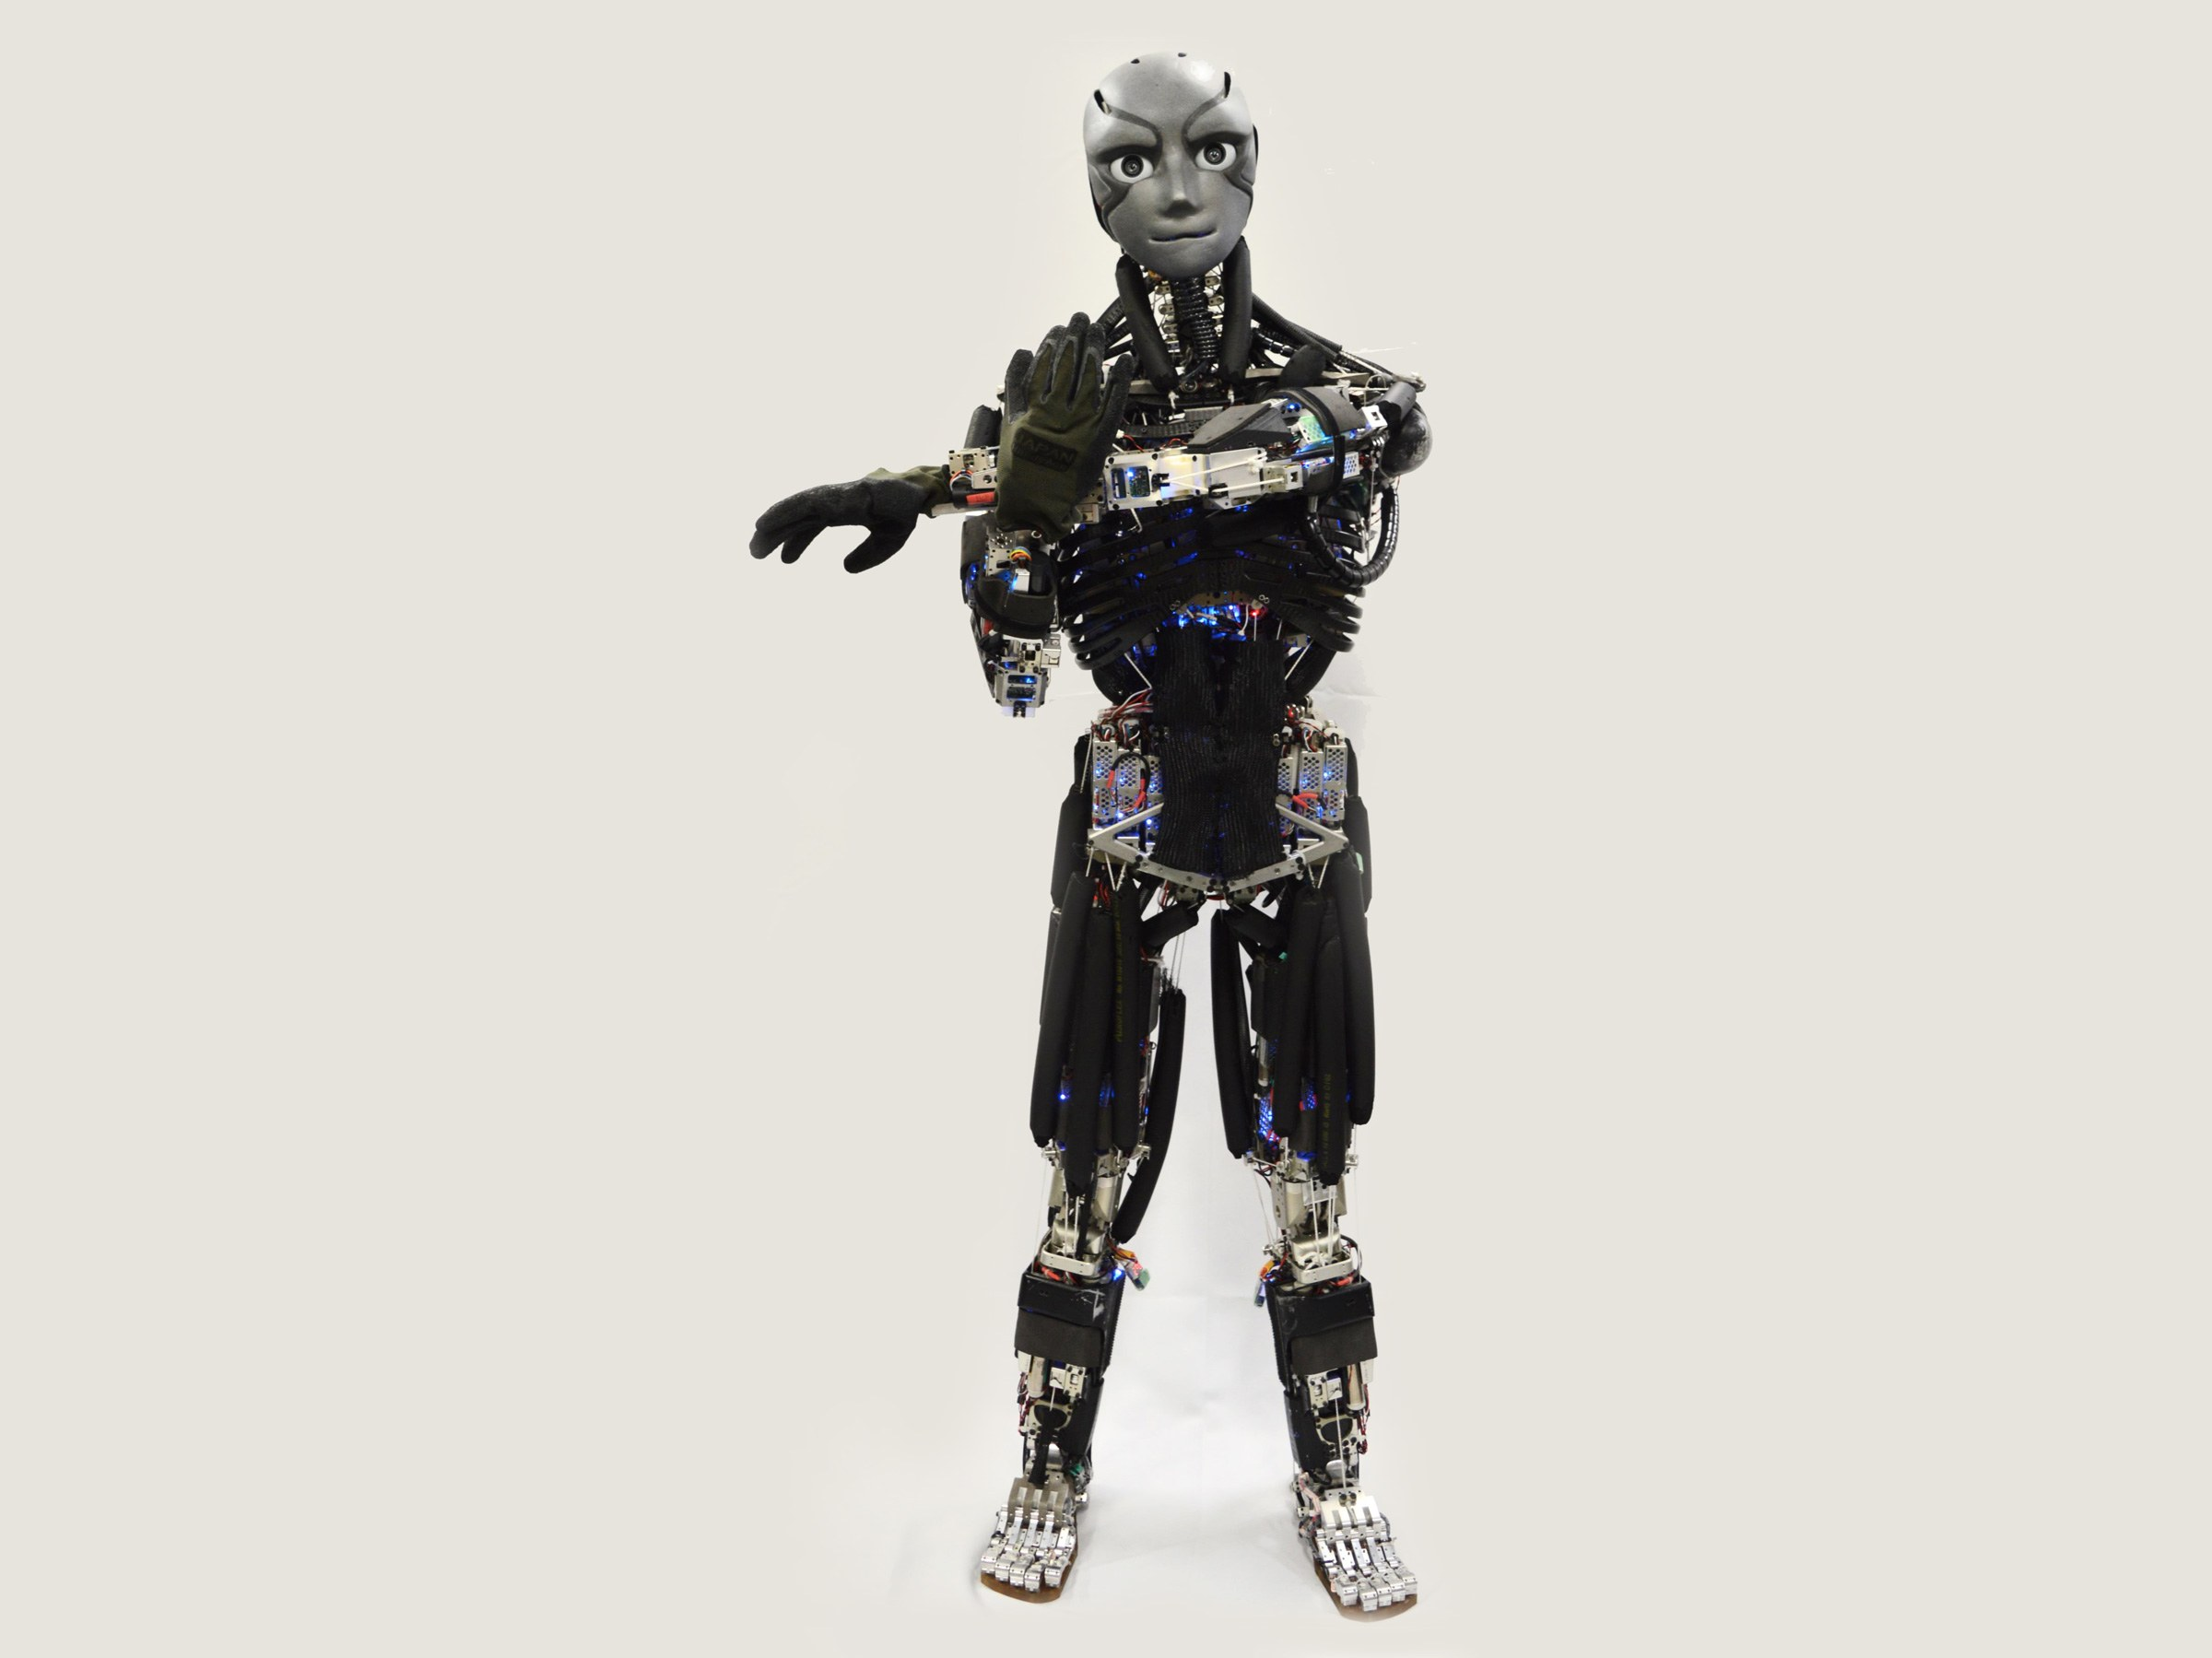person-like: (734, 37, 1451, 1628)
